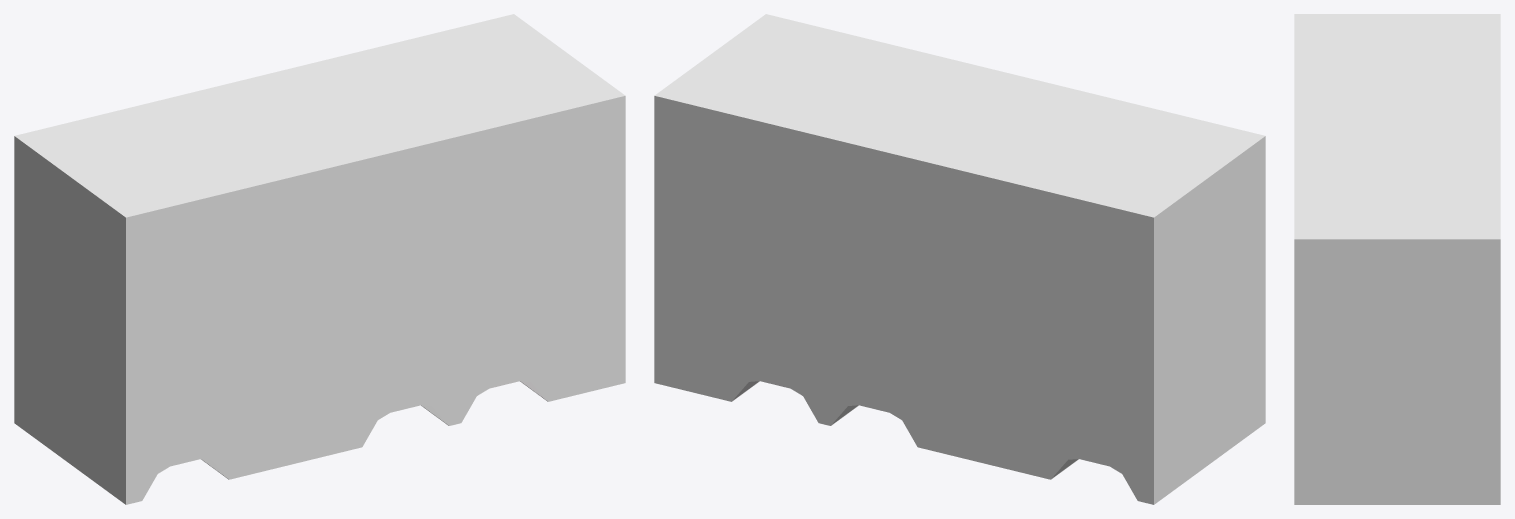
Rendered from Trunk.glb.
The picture shows the model from 3 angles, left to right: view 1: azimuth 30°, elevation 25°; view 2: azimuth 150°, elevation 25°; view 3: azimuth 270°, elevation 25°; orthographic projection. The views are drawn at different scales.
Visible parts, largest first — view 1: Cube.079; view 2: Cube.079; view 3: Cube.079.
Boxes of the visible parts, box(x1,y1,x2,y2) form: Cube.079: box(14, 14, 625, 504); Cube.079: box(654, 14, 1265, 504); Cube.079: box(1294, 14, 1500, 504).
Bounding box in the file's own units: 0.1667 × 0.0916 × 0.0645.
1 material, 1 textured.
